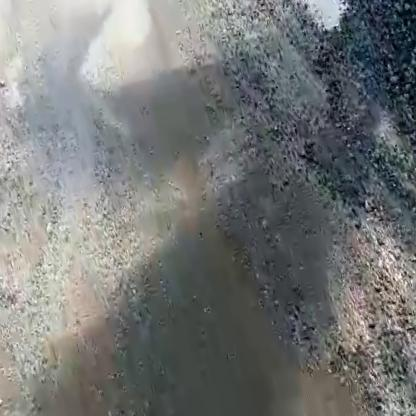pothole: (298, 0, 356, 40)
